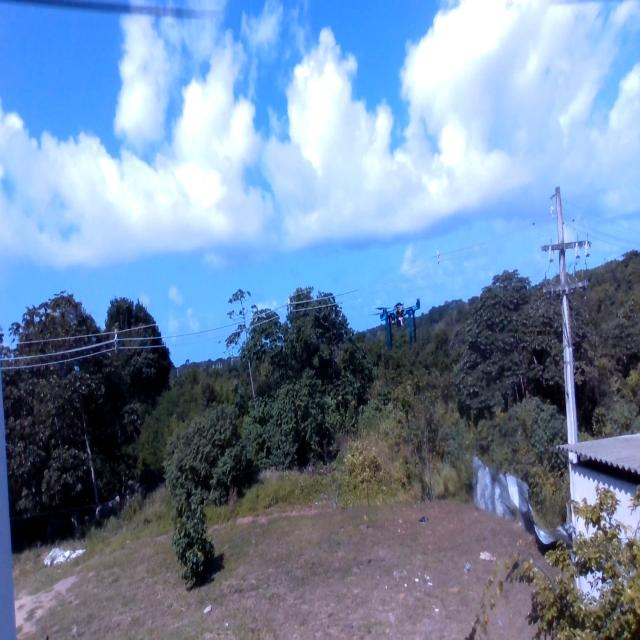-uav-: (369, 293, 434, 353)
